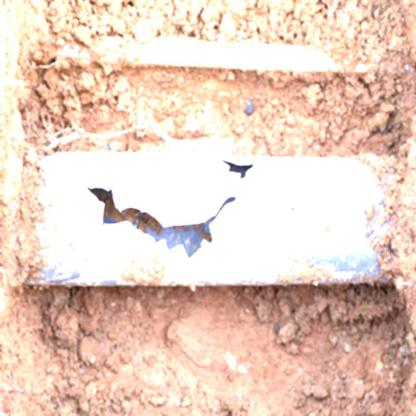burst: (95, 179, 239, 256), (217, 142, 271, 191)
